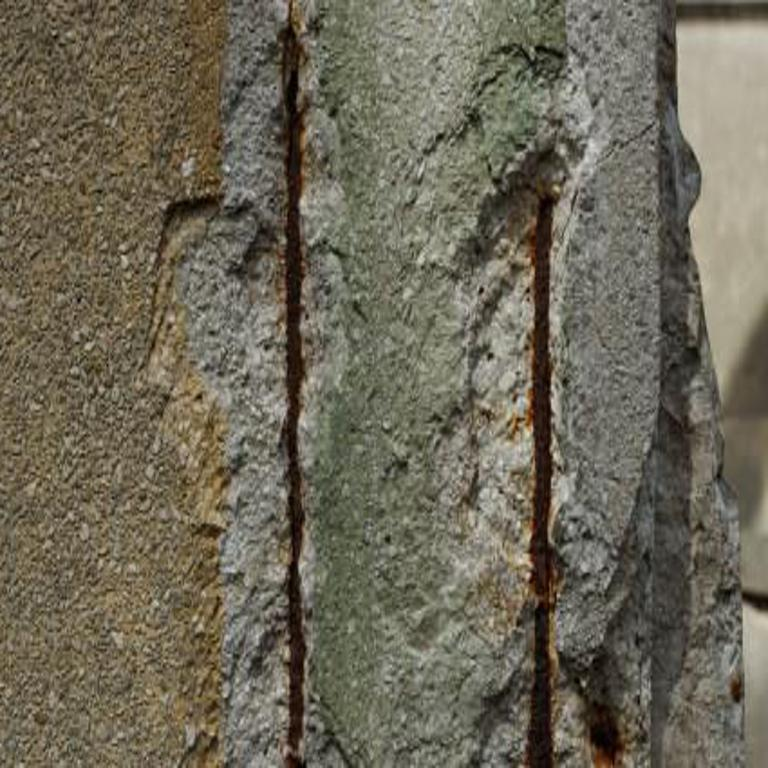damage: (144, 18, 748, 768)
